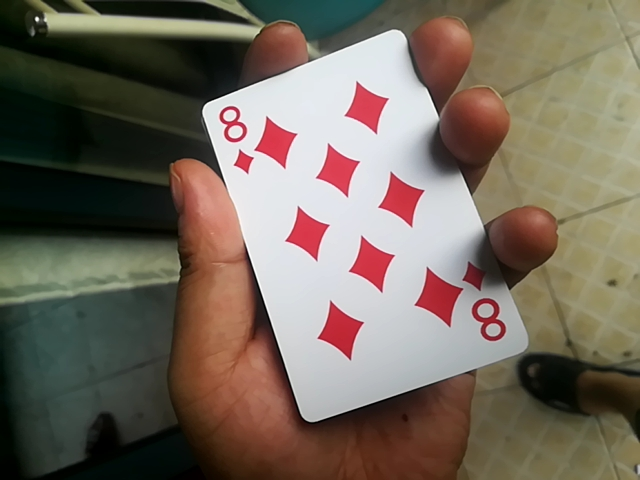fk 8: (201, 30, 523, 426)
